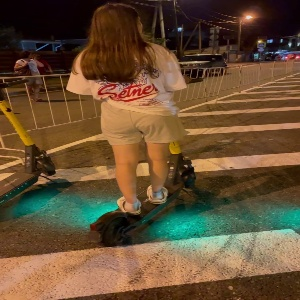human on a scooter: (67, 1, 203, 246)
